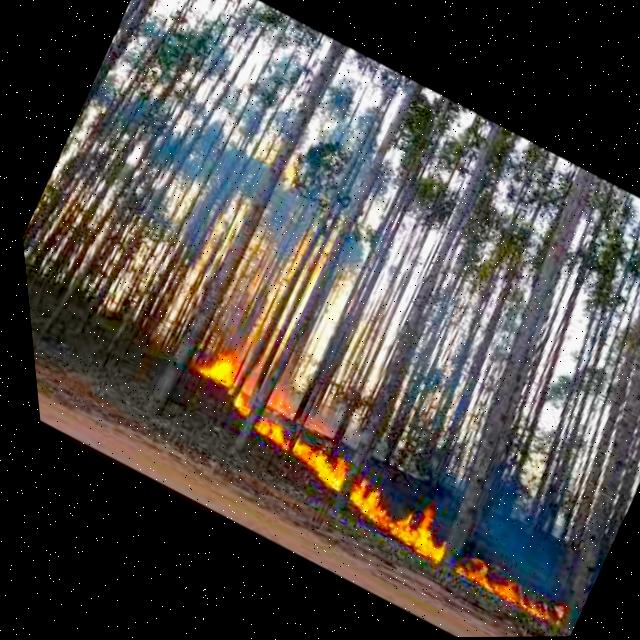Fire: (440, 548, 559, 634), (337, 478, 448, 564), (167, 334, 264, 416), (271, 431, 350, 497), (239, 410, 288, 449)
